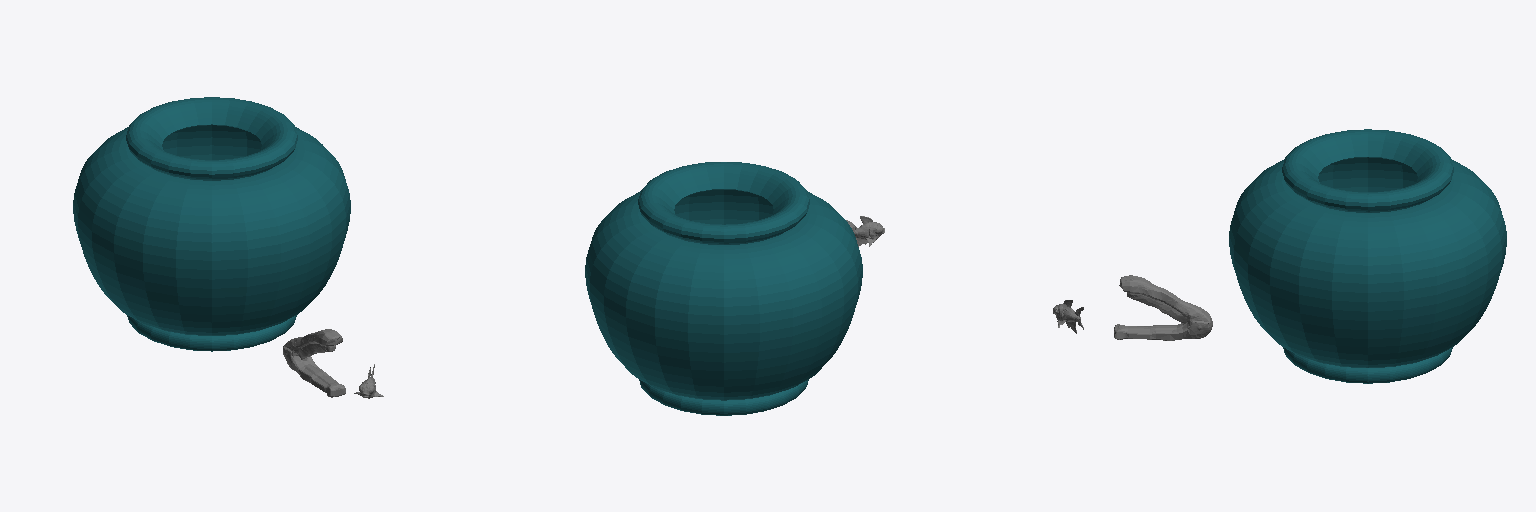
File: FixingMaya.obj
The picture shows the model from 3 angles: view 1: azimuth 30°, elevation 25°; view 2: azimuth 150°, elevation 25°; view 3: azimuth 270°, elevation 25°; orthographic projection.
Visible parts, largest first — view 1: fishbowl, Stapler1; view 2: fishbowl, Fish; view 3: fishbowl, Stapler1, Fish.
Boxes of the visible parts, <box> form: fishbowl: <box>73,97,350,351</box>; Stapler1: <box>283,329,345,397</box>; fishbowl: <box>585,162,862,415</box>; Fish: <box>846,216,884,246</box>; fishbowl: <box>1229,129,1506,383</box>; Stapler1: <box>1114,275,1212,340</box>; Fish: <box>1053,300,1083,333</box>.
Size of the model in its own units: 28.35 by 21.09 by 46.3.